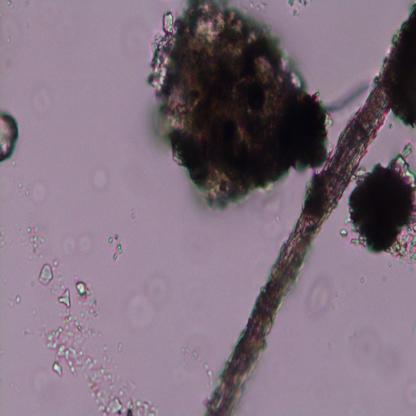Background material: (150, 0, 329, 204), (38, 262, 158, 415), (343, 154, 416, 250), (348, 315, 408, 384), (125, 262, 180, 327), (388, 23, 416, 132), (165, 340, 213, 390), (2, 224, 47, 264), (308, 272, 334, 319), (0, 111, 20, 162), (58, 229, 90, 260), (20, 171, 47, 204), (31, 87, 53, 118), (107, 232, 123, 265), (92, 165, 109, 195), (39, 261, 52, 286)
